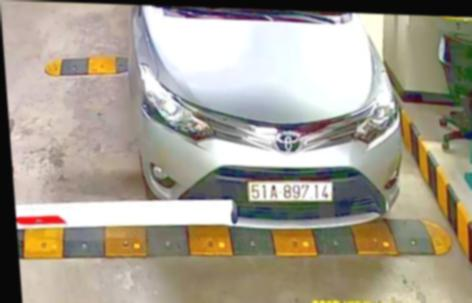License_Plate: (243, 175, 337, 204)
